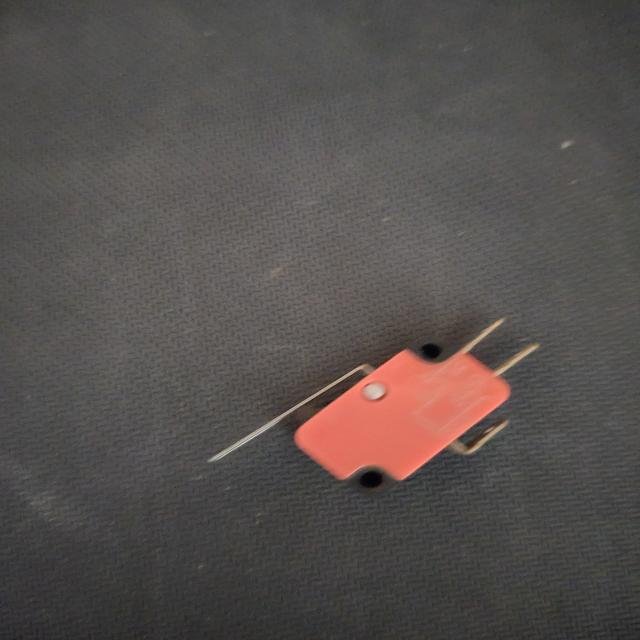switch: (198, 305, 550, 510)
